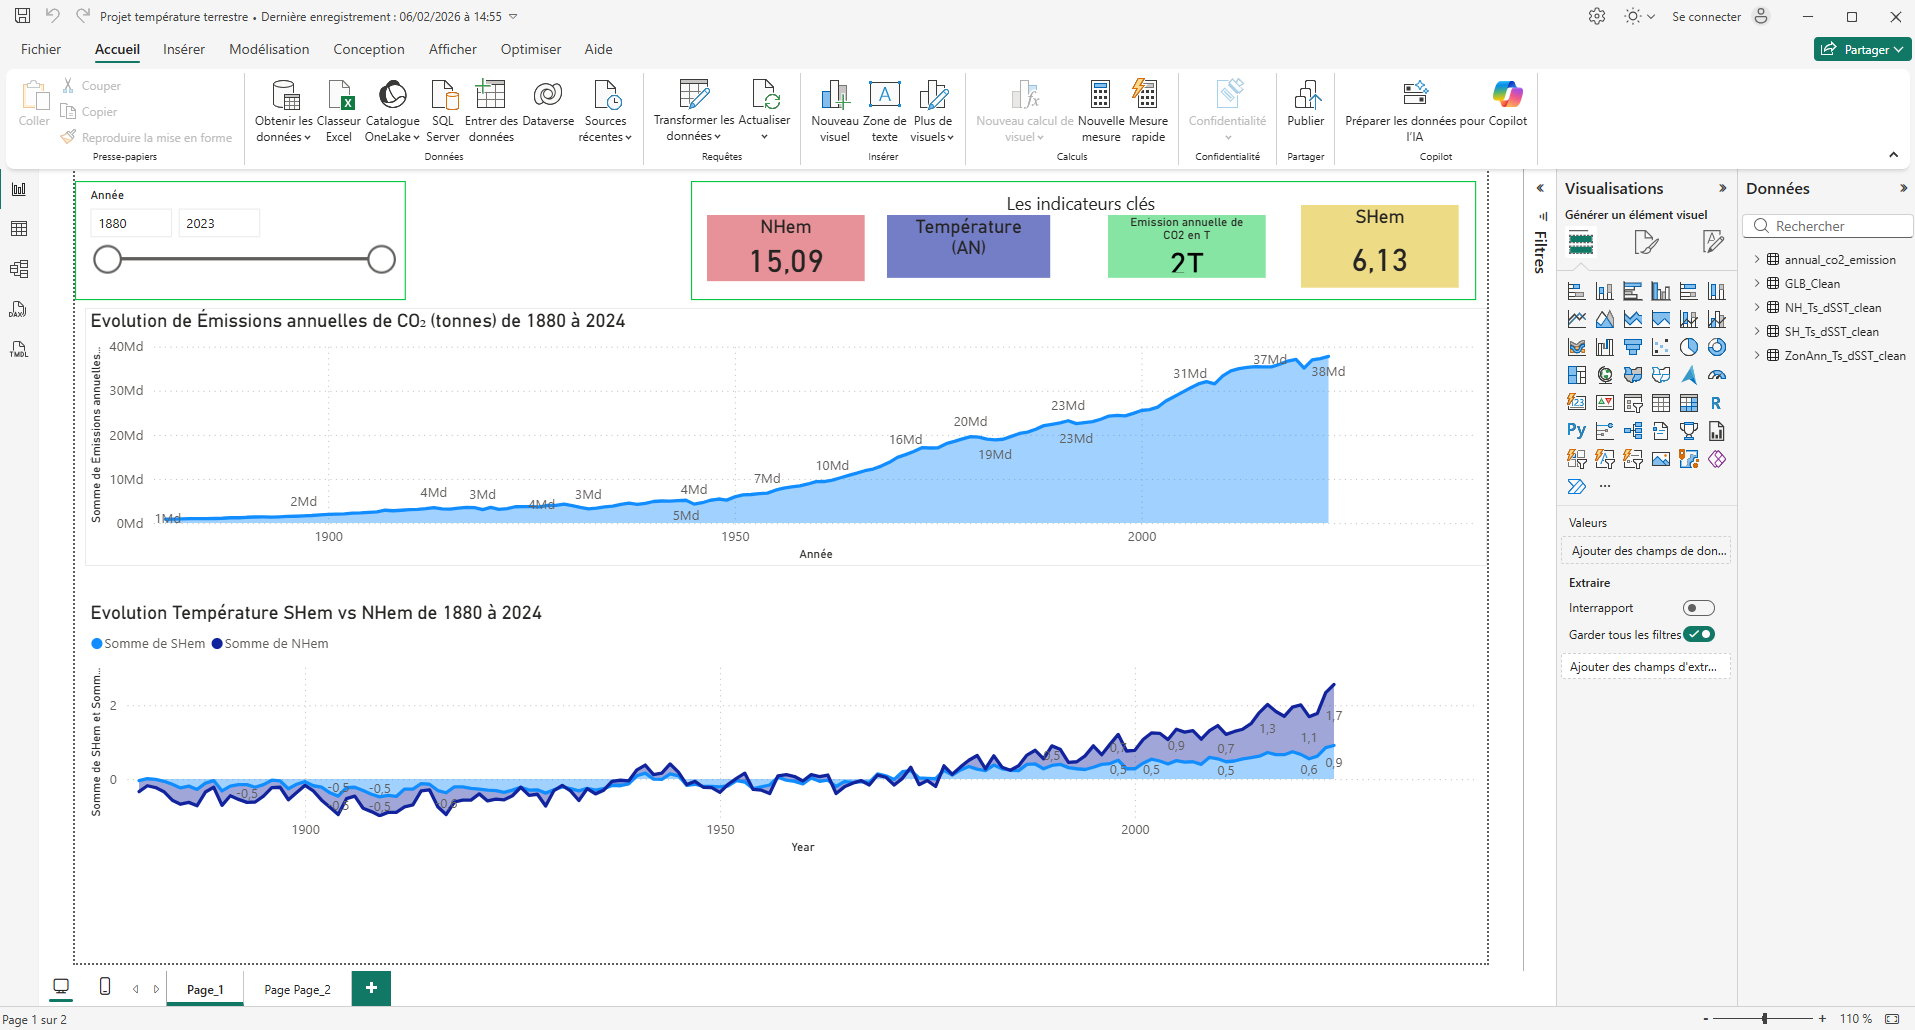

What the dashboard file says about the page in this screenshot:
{"tool":"powerbi","page":{"name":"Page_1","canvas":[1280,720],"ordinal":0},"visuals":[{"type":"areaChart","title":"Evolution de Émissions annuelles de CO₂ (tonnes) de 1880 à 2024","fields":{"Category":["annual_co2_emission.Année"],"Y":["Sum(annual_co2_emission.Émissions annuelles de CO₂ (tonnes))"]},"box":[9,126,1271,234],"z":0},{"type":"stackedAreaChart","title":"Evolution  Température SHem vs  NHem de 1880 à 2024","fields":{"Category":["ZonAnn_Ts_dSST_clean.Year"],"Y":["Sum(ZonAnn_Ts_dSST_clean.SHem)","Sum(ZonAnn_Ts_dSST_clean.NHem)"]},"box":[9,392,1271,234],"z":1000},{"type":"slicer","fields":{"Values":["annual_co2_emission.Année"]},"box":[0,11,300,108],"z":2000},{"type":"textbox","box":[559,11,712,108],"z":3000},{"type":"card","title":"NHem","fields":{"Values":["Sum(ZonAnn_Ts_dSST_clean.NHem)"]},"box":[573.5,41.6,143.1,59.9],"z":4000},{"type":"card","title":"SHem","fields":{"Values":["Sum(ZonAnn_Ts_dSST_clean.SHem)"]},"box":[1112,33,143,75],"z":5000},{"type":"card","title":"Emission annuelle de CO2 en T","fields":{"Values":["Sum(annual_co2_emission.Émissions annuelles de CO₂ (tonnes))"]},"box":[936.7,41.6,143.1,57.5],"z":6000},{"type":"card","title":"Température (AN)","fields":{"Values":["Sum(ZonAnn_Ts_dSST_clean.Glob)"]},"box":[736.1,41.6,148,57.5],"z":6001}]}

Visuals, with their boxes on the page's 1280x720 design canvas (x1, y1, x2, y2). These are canvas units, not pixel positions in the 1915x1030 screenshot, which may show the page scaled, cropped or inside an application window:
"Evolution de Émissions annuelles de CO₂ (tonnes) de 1880 à 2024" areaChart: box(9, 126, 1280, 360)
"Evolution  Température SHem vs  NHem de 1880 à 2024" stackedAreaChart: box(9, 392, 1280, 626)
slicer - annual_co2_emission.Année: box(0, 11, 300, 119)
textbox: box(559, 11, 1271, 119)
"NHem" card: box(574, 42, 717, 102)
"SHem" card: box(1112, 33, 1255, 108)
"Emission annuelle de CO2 en T" card: box(937, 42, 1080, 99)
"Température (AN)" card: box(736, 42, 884, 99)
